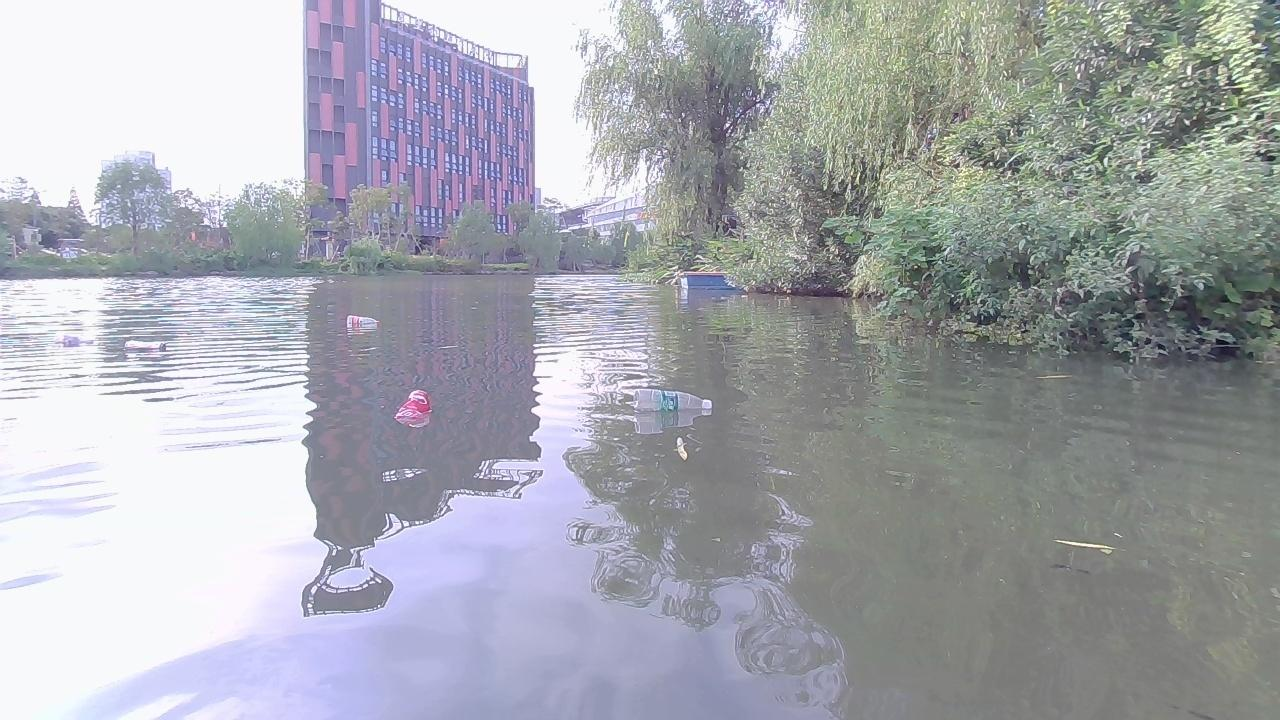bottle: (631, 387, 718, 416), (396, 384, 427, 426), (116, 336, 168, 353), (47, 330, 93, 349), (340, 314, 381, 329)
